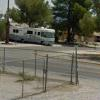Bus: (8, 19, 54, 47)
